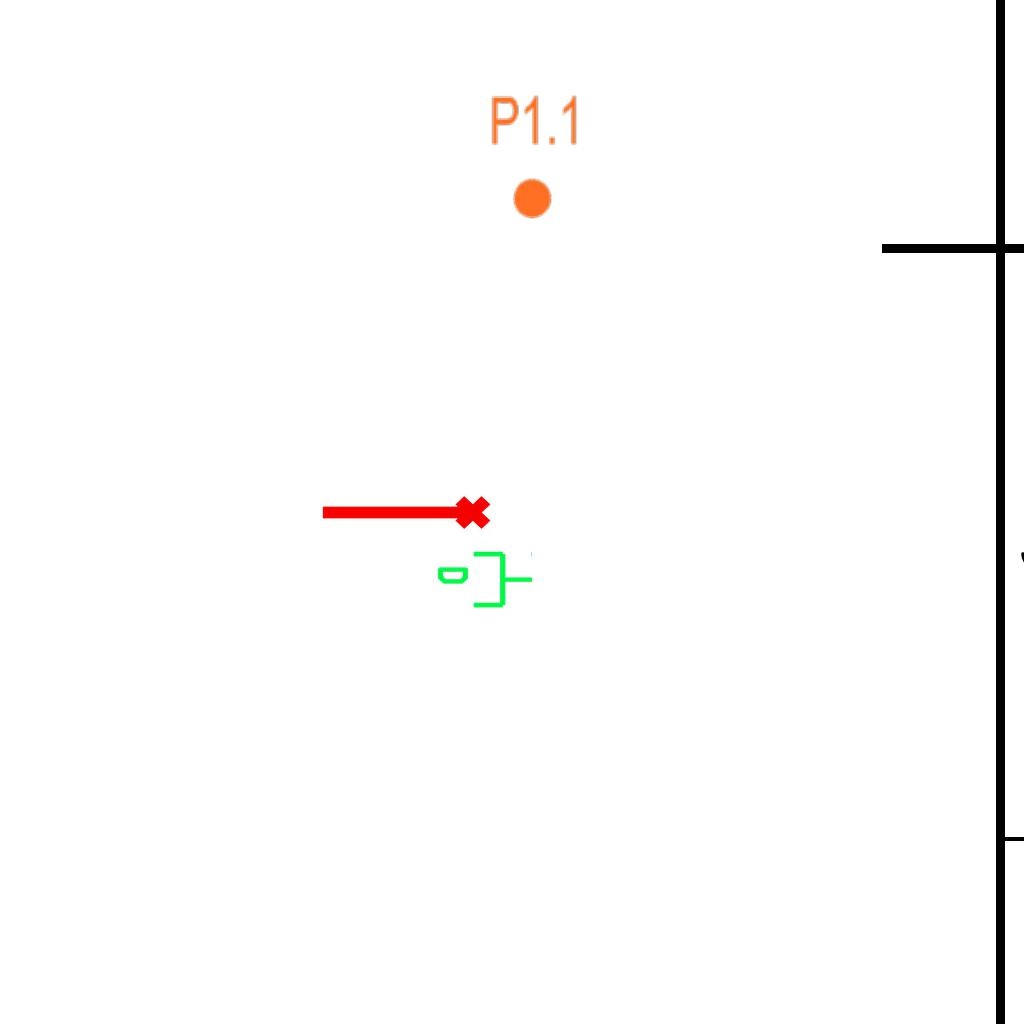ASR_Ansaugoeffnung: (317, 492, 493, 538)
Datenanschluss_einfach: (435, 547, 535, 616)
Downlight_LED_Einbauleuchten_Flur: (489, 93, 582, 221)
